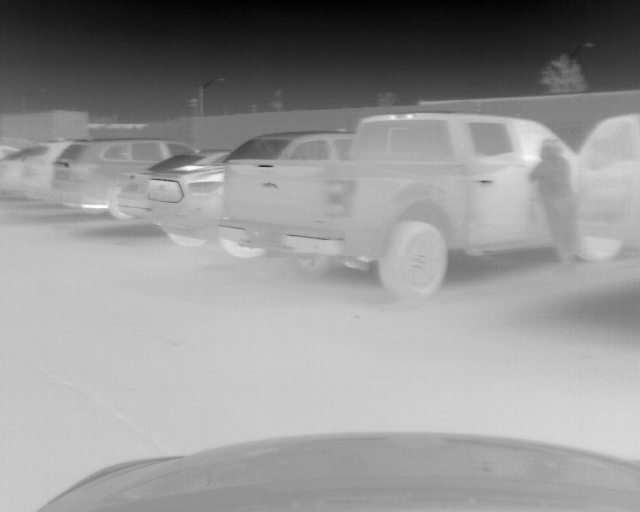car: (218, 109, 640, 299), (145, 128, 360, 258), (51, 138, 202, 220), (118, 149, 233, 256), (3, 139, 80, 197)
people: (530, 136, 578, 270)
